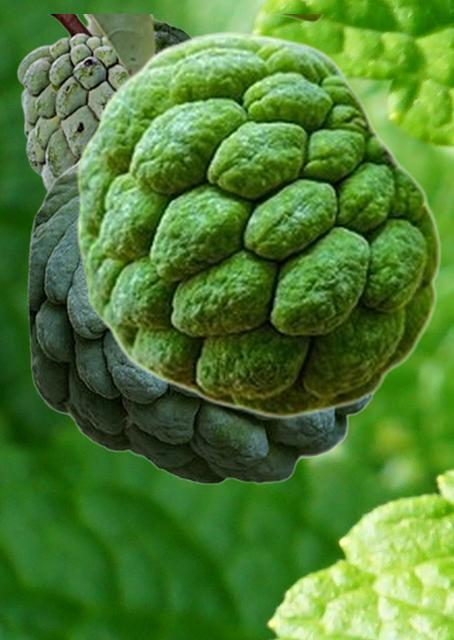atis: (76, 30, 441, 418), (27, 159, 376, 484), (16, 14, 322, 192)
